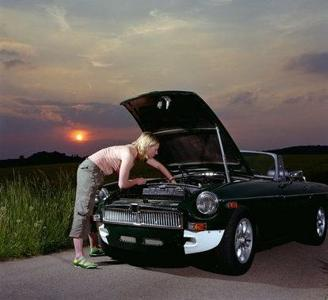person: (67, 131, 180, 273)
